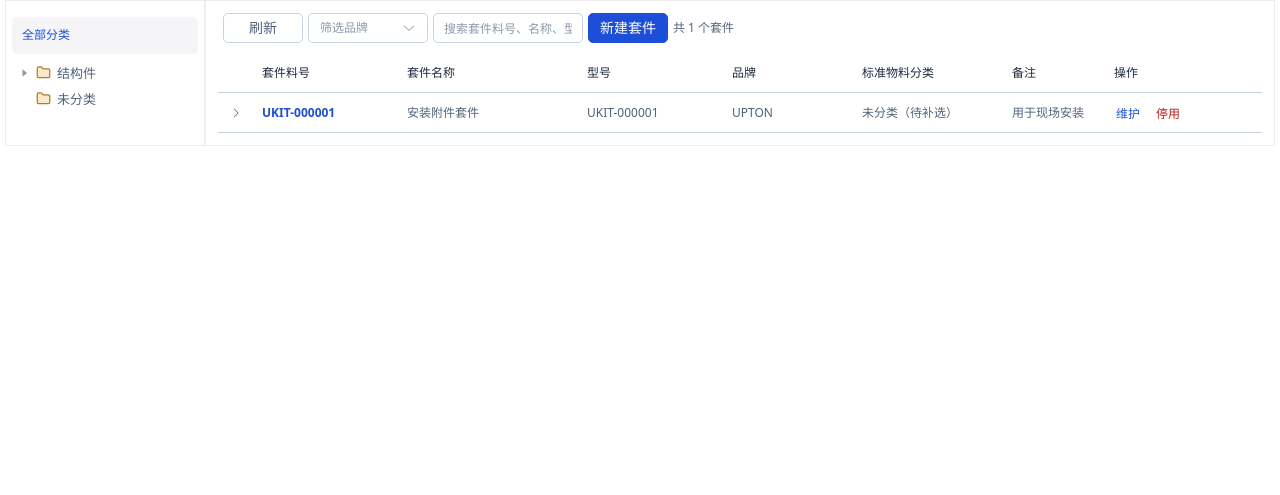
Test case: EngineeringKitLibrary › loads existing kit component details even when they are outside the initial material list
Click the button "维护" at point(1128, 114), box x1=1114 y1=106 x2=1142 y2=122
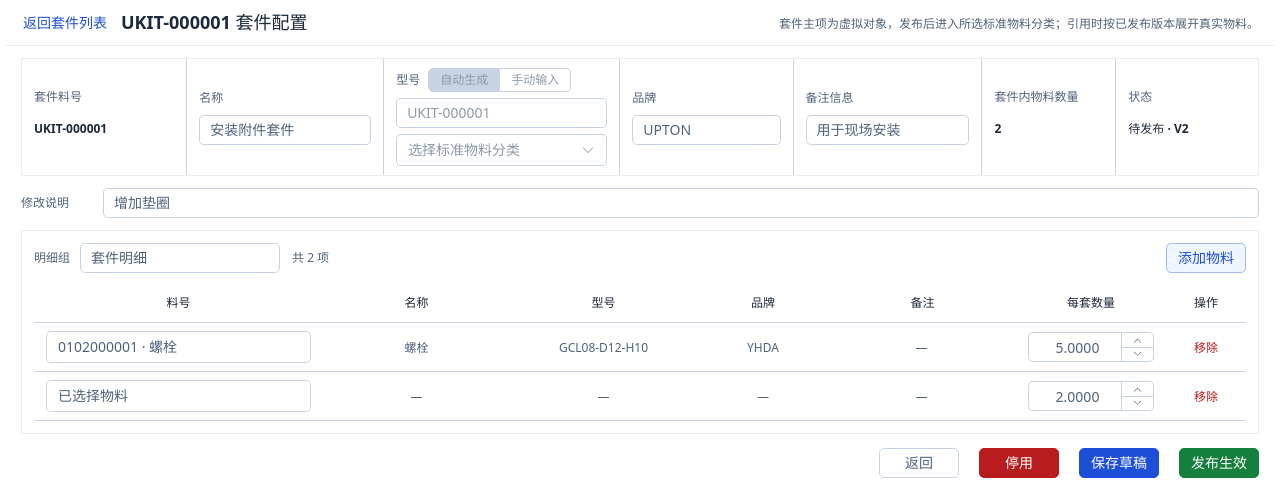
Expected: the element with class "engineering-kit-group" shows "GCL08-D12-H10", x1=559 y1=339 x2=648 y2=356
Expected: the element with class "engineering-kit-group" shows "YHDA", x1=747 y1=339 x2=779 y2=356
